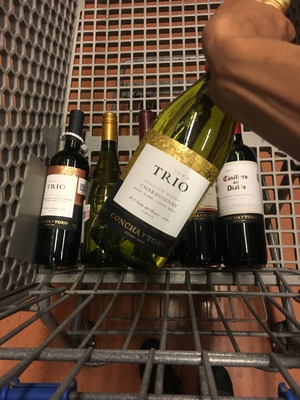trio chardonnay: (110, 63, 222, 285)
